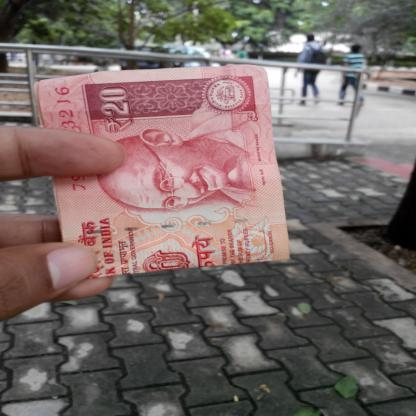Old20Front: (49, 72, 278, 275)
